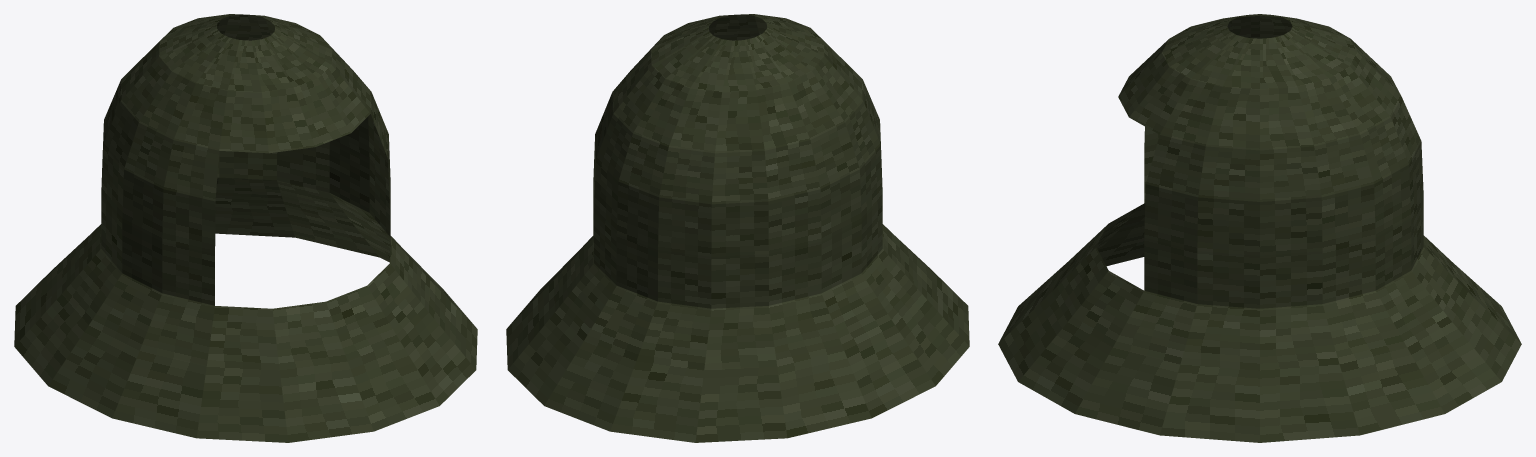
Rendered from hood.glb.
The picture shows the model from 3 angles, left to right: view 1: azimuth 30°, elevation 25°; view 2: azimuth 150°, elevation 25°; view 3: azimuth 270°, elevation 25°; orthographic projection. The views are drawn at different scales.
Visible parts, largest first — view 1: A_Hood; view 2: A_Hood; view 3: A_Hood.
Part boxes in pixels (x1,y1,x2,y2): A_Hood: (14,14,477,442); A_Hood: (506,14,969,442); A_Hood: (998,14,1521,442).
Size of the model in its own units: 0.48 by 0.36 by 0.5376.
1 material, 1 textured.
